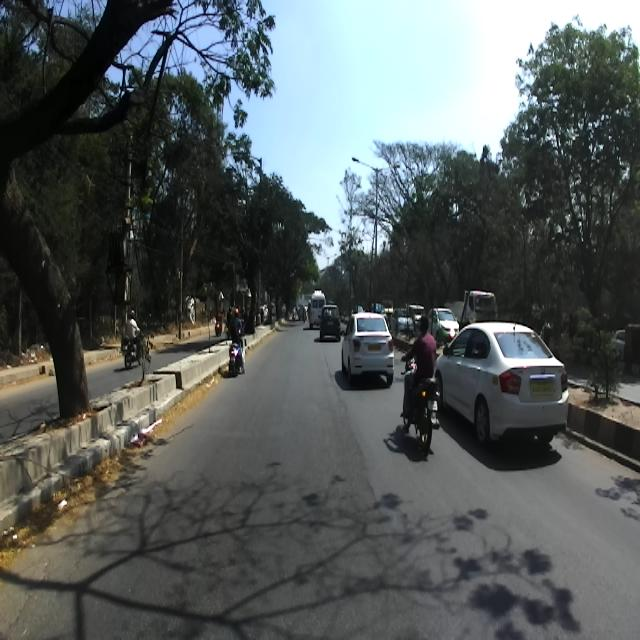car ahead at: (438, 320, 579, 462), (340, 308, 399, 394)
motorcycle ahead at: (398, 381, 443, 451)
